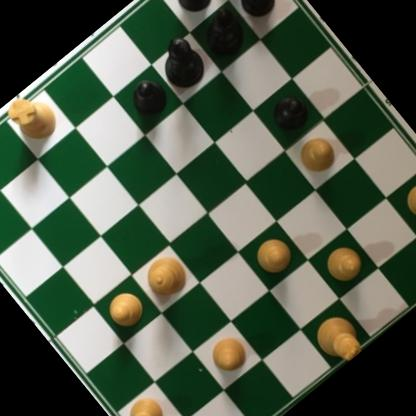black-bishop: (188, 1, 253, 67)
black-king: (147, 30, 215, 99)
black-knight: (160, 0, 225, 22)
black-pawn: (122, 71, 174, 124), (266, 89, 315, 138), (231, 0, 285, 25)
white-king: (305, 305, 370, 371)
white-pawn: (318, 237, 372, 292), (247, 230, 299, 281), (292, 129, 343, 181), (203, 329, 254, 380), (101, 285, 152, 335), (117, 387, 172, 416), (398, 175, 416, 228)
white-queen: (136, 245, 197, 307)
white-rook: (0, 85, 64, 154)
